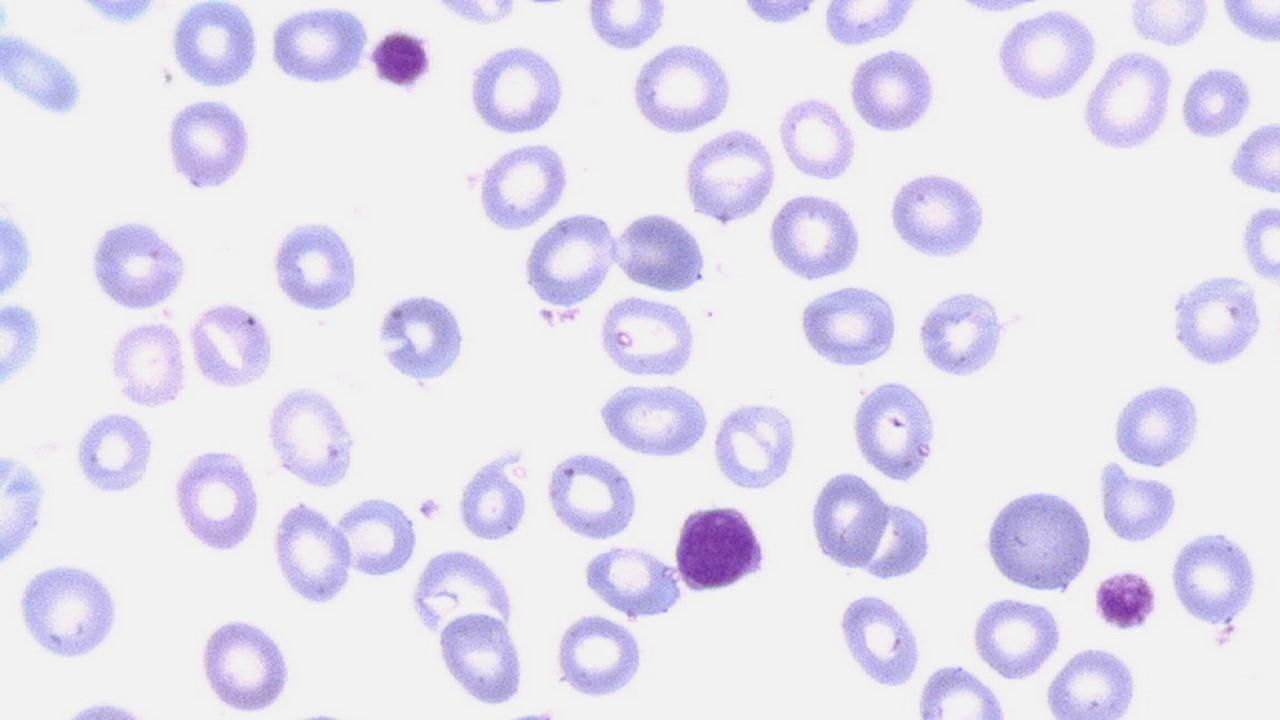Platelets: (367, 24, 435, 96), (1092, 568, 1162, 634), (1208, 616, 1242, 652), (416, 494, 446, 522), (294, 707, 351, 720), (506, 707, 562, 719)
RBC: (404, 542, 524, 694), (980, 482, 1098, 595), (13, 557, 125, 663), (991, 5, 1101, 107), (84, 212, 192, 315), (1079, 46, 1179, 156), (627, 37, 734, 138), (519, 207, 618, 316), (884, 165, 992, 263), (263, 384, 362, 490), (1166, 269, 1268, 370), (467, 41, 572, 139), (197, 611, 294, 716), (170, 446, 264, 554), (912, 286, 1016, 382), (679, 127, 779, 226), (435, 605, 530, 709), (372, 288, 470, 386), (160, 94, 256, 194), (848, 378, 942, 480), (269, 214, 363, 316), (542, 446, 640, 543), (1168, 527, 1262, 628), (270, 498, 356, 607), (796, 282, 902, 370), (594, 380, 712, 459), (476, 136, 570, 235), (834, 588, 924, 690), (595, 293, 700, 380), (1109, 378, 1207, 471), (185, 296, 277, 394), (708, 396, 800, 494), (768, 193, 866, 284), (551, 611, 649, 701), (166, 1, 262, 92), (806, 468, 890, 572), (268, 3, 370, 88), (0, 25, 88, 123), (969, 592, 1063, 682), (846, 47, 941, 136), (611, 208, 709, 294), (580, 540, 684, 620), (456, 445, 534, 546), (107, 316, 189, 411), (852, 493, 938, 582), (1041, 644, 1143, 718), (72, 407, 156, 496), (334, 494, 418, 582), (777, 94, 858, 185), (1097, 460, 1183, 544), (1, 440, 51, 577), (1179, 62, 1253, 142), (913, 658, 1008, 720), (816, 1, 928, 48), (582, 1, 672, 54), (1225, 118, 1279, 201), (0, 299, 47, 389), (1124, 1, 1212, 48), (1, 200, 39, 308), (1237, 200, 1279, 286), (1214, 1, 1278, 50), (70, 0, 162, 28), (734, 0, 824, 27), (59, 693, 152, 718)
WBC: (671, 500, 771, 594)
